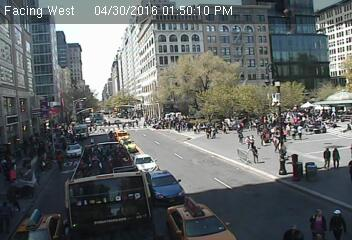pos: (327, 208, 349, 237), (309, 208, 330, 237), (329, 146, 343, 166), (247, 145, 261, 164), (320, 149, 334, 167)
